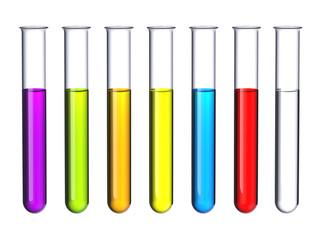Test tube: (100, 19, 141, 214), (272, 18, 310, 217), (60, 19, 94, 213), (20, 19, 52, 213), (148, 26, 178, 214), (187, 27, 217, 215), (232, 23, 261, 216)
